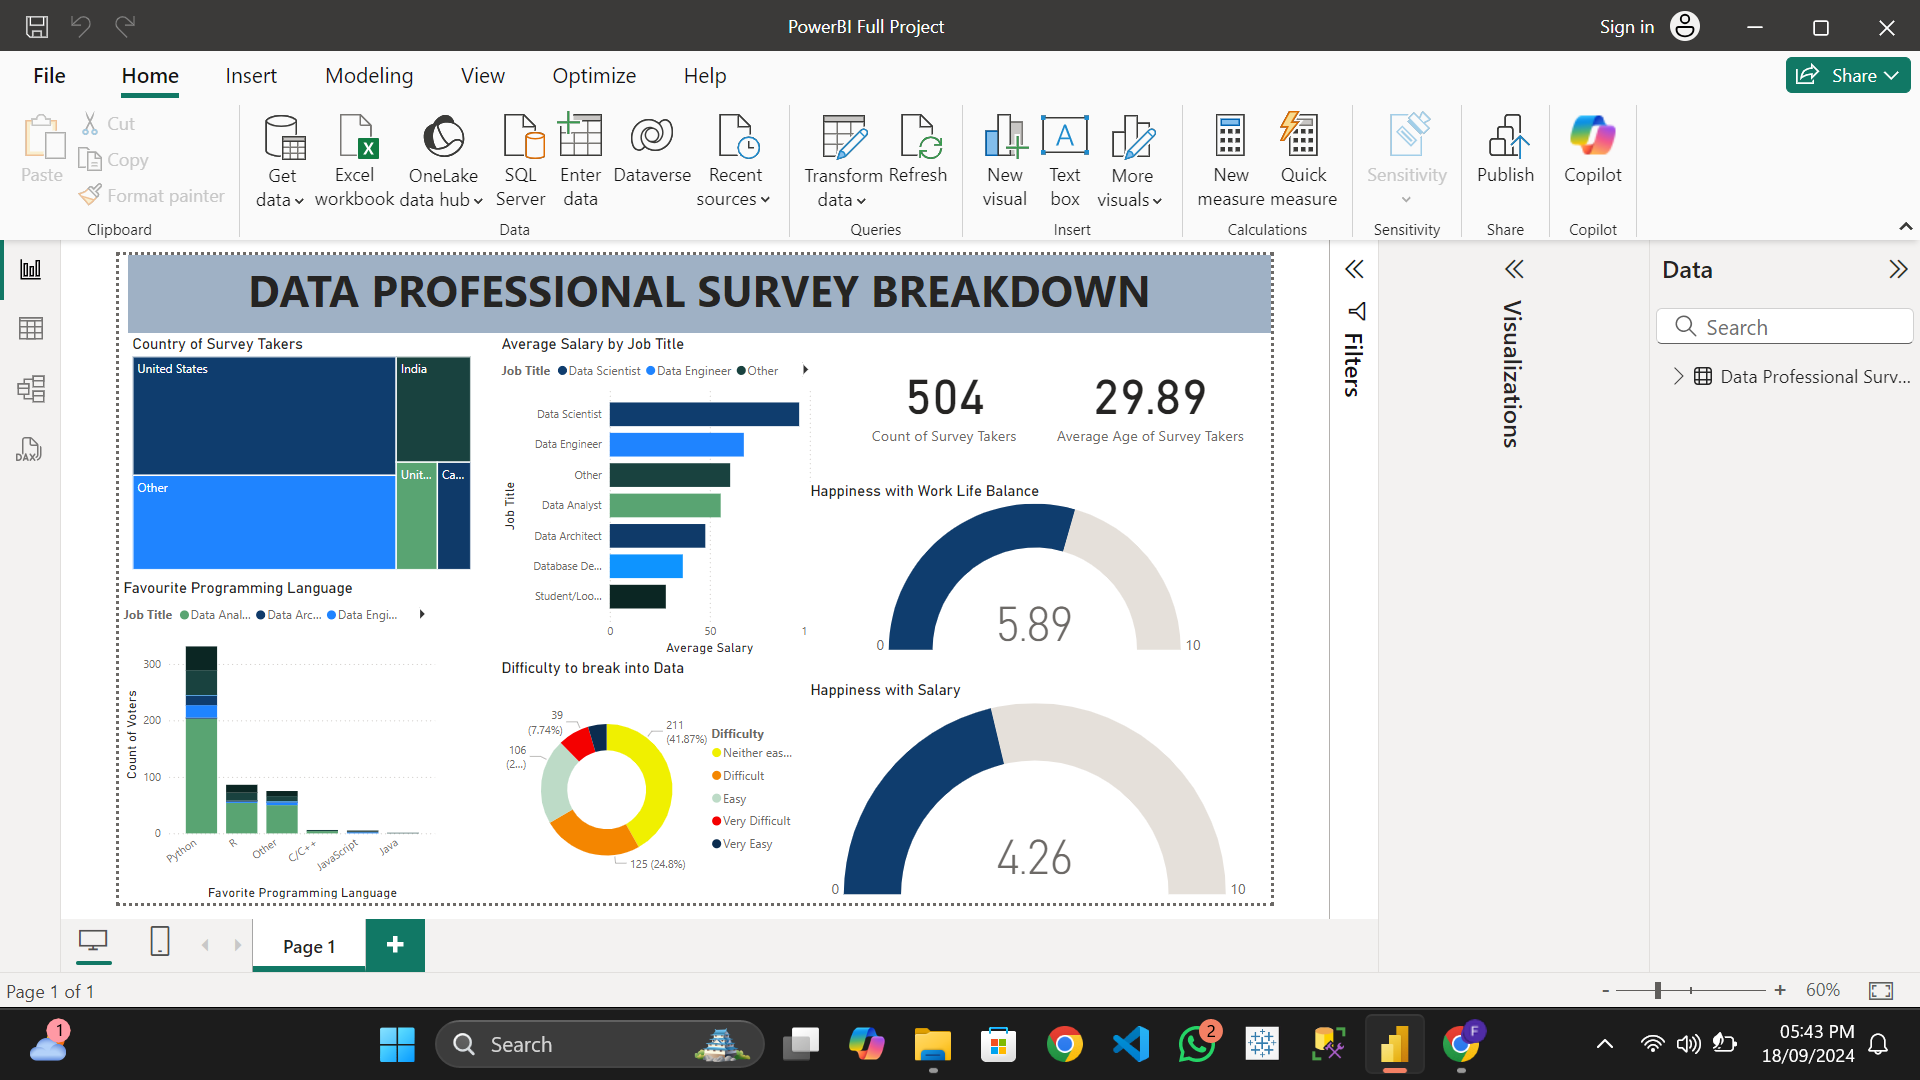

What the dashboard file says about the page in this screenshot:
{"tool":"powerbi","page":{"name":"Page 1","canvas":[1280,720],"ordinal":0},"visuals":[{"type":"textbox","box":[9.4,0,1269.9,86.9],"z":0},{"type":"card","fields":{"Values":["CountNonNull(Data Professional Survey.Unique ID)"]},"box":[805,86.9,223,149.3],"z":1000},{"type":"card","fields":{"Values":["Avg(Data Professional Survey.Q10 - Current Age)"]},"box":[1028,86.9,234.3,149.3],"z":2000},{"type":"barChart","title":"Average Salary by Job Title","fields":{"Category":["Data Professional Survey.Q1 - Which Title Best Fits your Current Role?.1.1"],"Y":["Avg(Data Professional Survey.Average Salary)"],"Series":["Data Professional Survey.Q1 - Which Title Best Fits your Current Role?.1.1"]},"box":[420,88.6,362.2,360.3],"z":3000},{"type":"columnChart","title":"Favourite Programming Language","fields":{"Category":["Data Professional Survey.Q5 - Favorite Programming Language.1"],"Y":["CountNonNull(Data Professional Survey.Unique ID)"],"Series":["Data Professional Survey.Q1 - Which Title Best Fits your Current Role?.1.1"]},"box":[0,360.3,356.5,360.3],"z":4000},{"type":"treemap","title":"Country of Survey Takers","fields":{"Group":["Data Professional Survey.Q11 - Which Country do you live in?.1"],"Values":["CountNonNull(Data Professional Survey.Q11 - Which Country do you live in?.1)"]},"box":[9.6,88.6,385.4,265.9],"z":4001},{"type":"gauge","title":"Happiness with Work Life Balance","fields":{"Y":["Avg(Data Professional Survey.Q6 - How Happy are you in your Current Position with the following? (Coworkers))"],"MinValue":["Min(Data Professional Survey.Q6 - How Happy are you in your Current Position with the following? (Coworkers))1"],"MaxValue":["Max(Data Professional Survey.Q6 - How Happy are you in your Current Position with the following? (Coworkers))2"]},"box":[763,252.4,516.4,196.5],"z":4002},{"type":"gauge","title":"Happiness with Salary","fields":{"Y":["Avg(Data Professional Survey.Q6 - How Happy are you in your Current Position with the following? (Salary))"],"MinValue":["Min(Data Professional Survey.Q6 - How Happy are you in your Current Position with the following? (Salary))1"],"MaxValue":["Max(Data Professional Survey.Q6 - How Happy are you in your Current Position with the following? (Salary))2"]},"box":[763,474,516.4,246.6],"z":4003},{"type":"donutChart","title":"Difficulty to break into Data","fields":{"Category":["Data Professional Survey.Q7 - How difficult was it for you to break into Data?"],"Y":["CountNonNull(Data Professional Survey.Q7 - How difficult was it for you to break into Data?)"]},"box":[420,448.9,343,271.7],"z":4004}]}

Visuals, with their boxes on the page's 1280x720 design canvas (x1, y1, x2, y2). These are canvas units, not pixel positions in the 1920x1080 screenshot, which may show the page scaled, cropped or inside an application window:
textbox: {"left": 9, "top": 0, "right": 1279, "bottom": 87}
card - CountNonNull(Data Professional Survey.Unique ID): {"left": 805, "top": 87, "right": 1028, "bottom": 236}
card - Avg(Data Professional Survey.Q10 - Current Age): {"left": 1028, "top": 87, "right": 1262, "bottom": 236}
"Average Salary by Job Title" barChart: {"left": 420, "top": 89, "right": 782, "bottom": 449}
"Favourite Programming Language" columnChart: {"left": 0, "top": 360, "right": 356, "bottom": 721}
"Country of Survey Takers" treemap: {"left": 10, "top": 89, "right": 395, "bottom": 354}
"Happiness with Work Life Balance" gauge: {"left": 763, "top": 252, "right": 1279, "bottom": 449}
"Happiness with Salary" gauge: {"left": 763, "top": 474, "right": 1279, "bottom": 721}
"Difficulty to break into Data" donutChart: {"left": 420, "top": 449, "right": 763, "bottom": 721}
